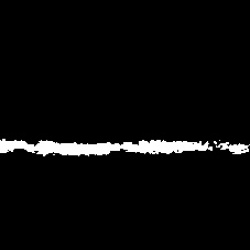crack: (5, 140, 212, 156), (213, 139, 248, 154)
